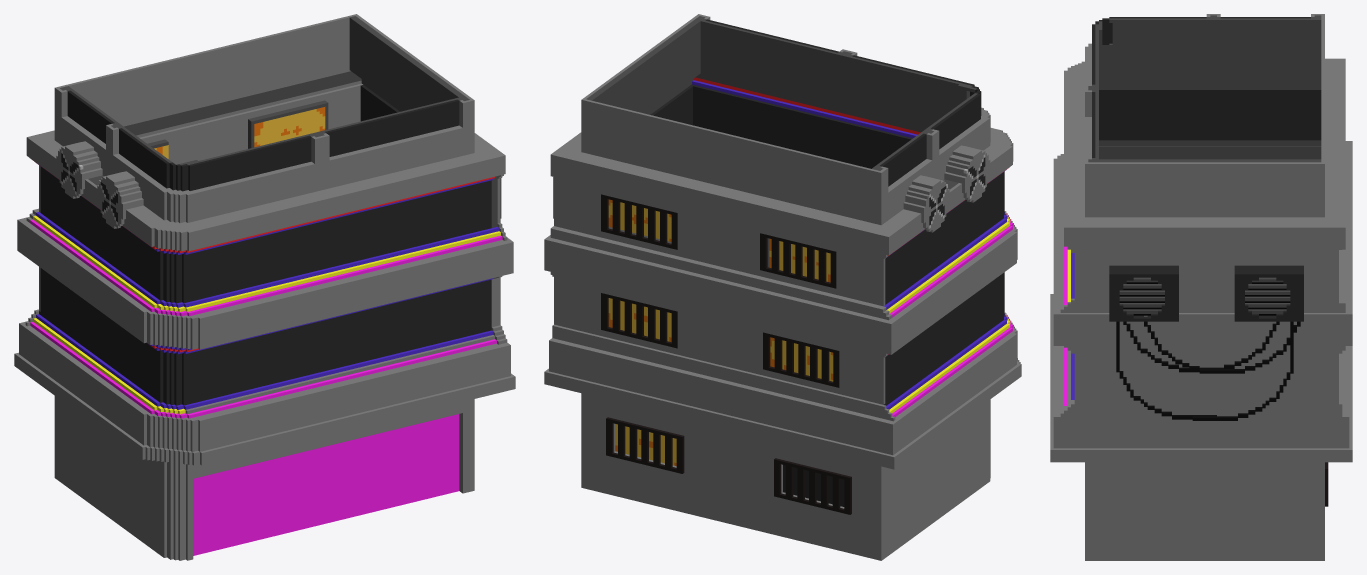
The model's file is Map3 (p1)-0.obj.
3 views of the same model, side by side, from view 1: azimuth 30°, elevation 25°; view 2: azimuth 150°, elevation 25°; view 3: azimuth 270°, elevation 25° (orthographic). The views are drawn at different scales.
Bounding box in the file's own units: 12.4 × 12.6 × 8.7.
1 material, 1 textured.
